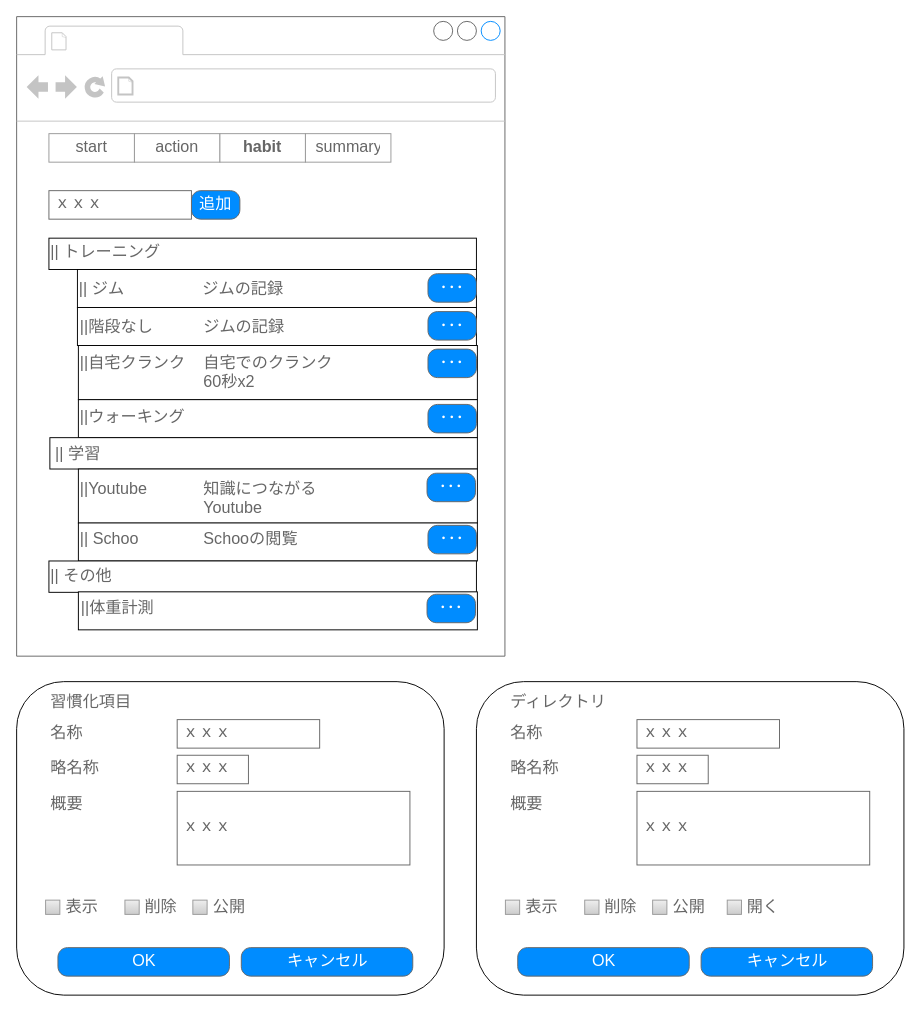
The diagram is 921 pixels wide and 1012 high, and some of its shapes have lost their labels. Here are the shapes that lost their labels. From the top down, the centre of each, then its label:
At point (125, 40): "Page 1".
At point (258, 85): "https://www.draw.io".
